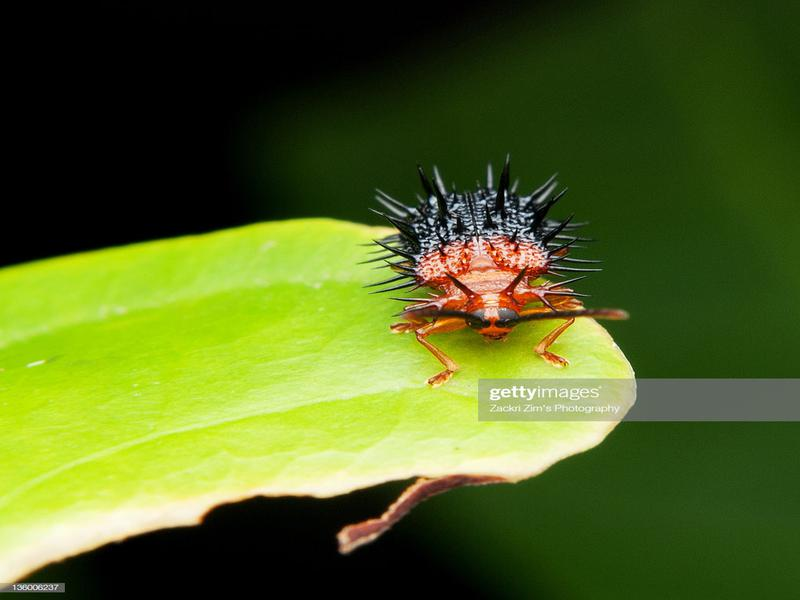Spiny_beetle: (361, 138, 608, 370)
